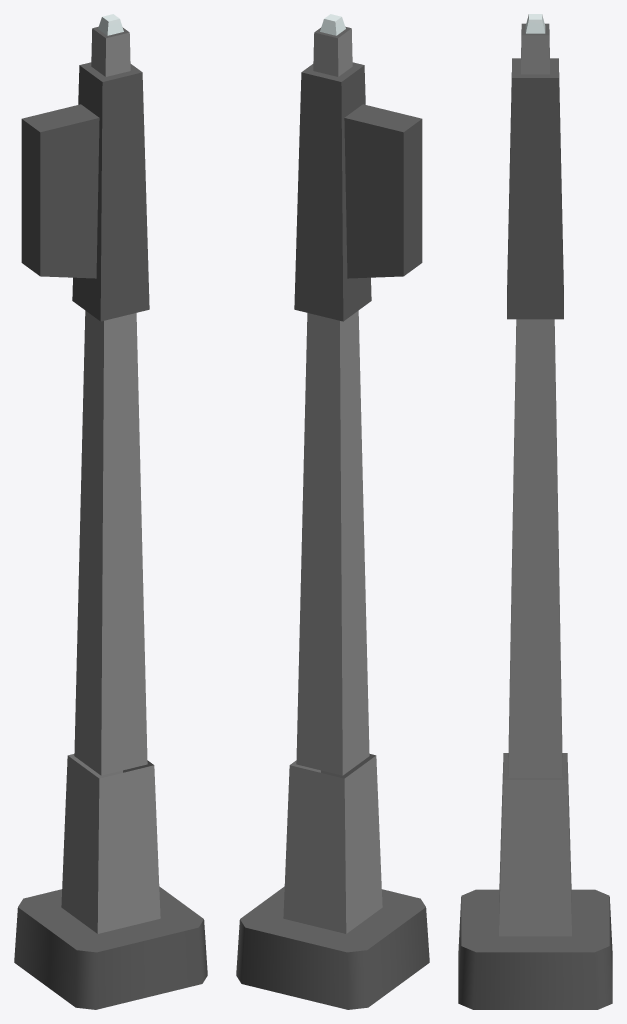
File: Cable_Pole3.fbx
3 renders of one model, left to right at view 1: azimuth 30°, elevation 25°; view 2: azimuth 150°, elevation 25°; view 3: azimuth 270°, elevation 25°, orthographic.
Parts seen in each view (by area): view 1: Cable_Pole_1C; view 2: Cable_Pole_1C; view 3: Cable_Pole_1C.
Boxes of the visible parts, bbox=[...] form: Cable_Pole_1C: bbox=[14, 14, 207, 1009]; Cable_Pole_1C: bbox=[236, 14, 429, 1009]; Cable_Pole_1C: bbox=[458, 14, 612, 1009].
Size of the model in its own units: 1643 by 10220 by 1485.
